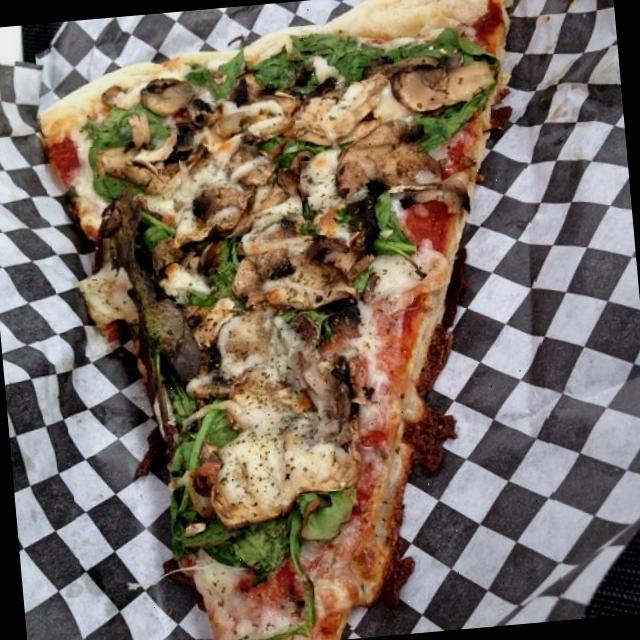basil: (278, 489, 369, 633), (304, 16, 470, 84), (188, 519, 302, 574), (365, 191, 418, 275), (74, 106, 176, 148), (166, 412, 233, 470), (413, 99, 492, 144), (186, 48, 248, 102), (209, 613, 317, 640), (248, 34, 296, 90), (208, 246, 242, 308), (138, 210, 177, 248), (163, 380, 196, 420), (92, 164, 134, 193)
mushrooms: (229, 231, 381, 429), (179, 95, 304, 238), (296, 76, 432, 198), (88, 198, 158, 329), (135, 273, 204, 382), (389, 52, 500, 113), (92, 138, 180, 191), (143, 70, 205, 120)
pizza: (41, 0, 510, 640)
